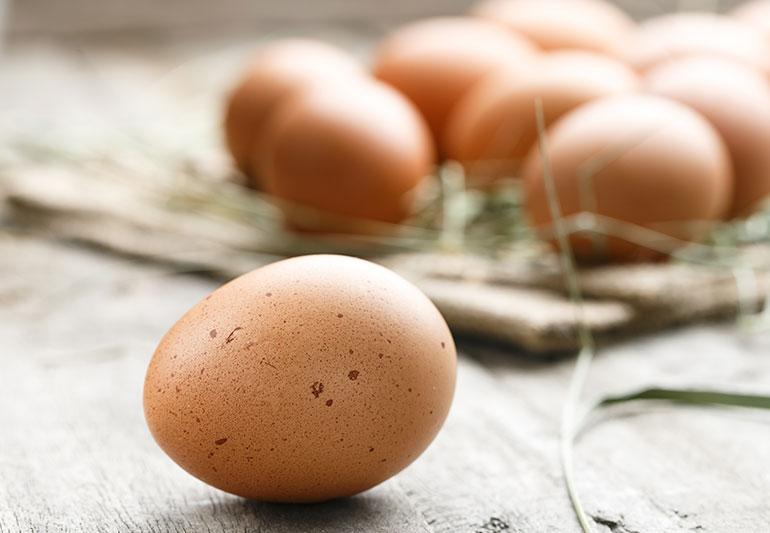egg: (142, 249, 464, 504), (522, 101, 742, 262), (262, 70, 438, 220)
